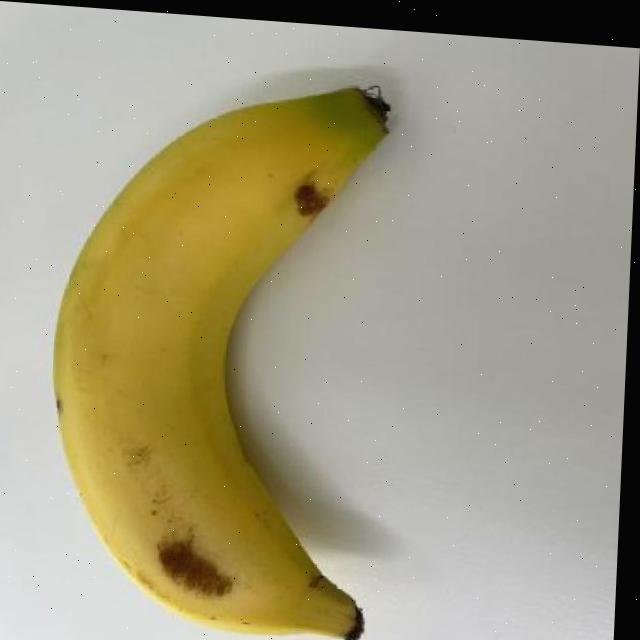banana: (32, 59, 413, 640)
